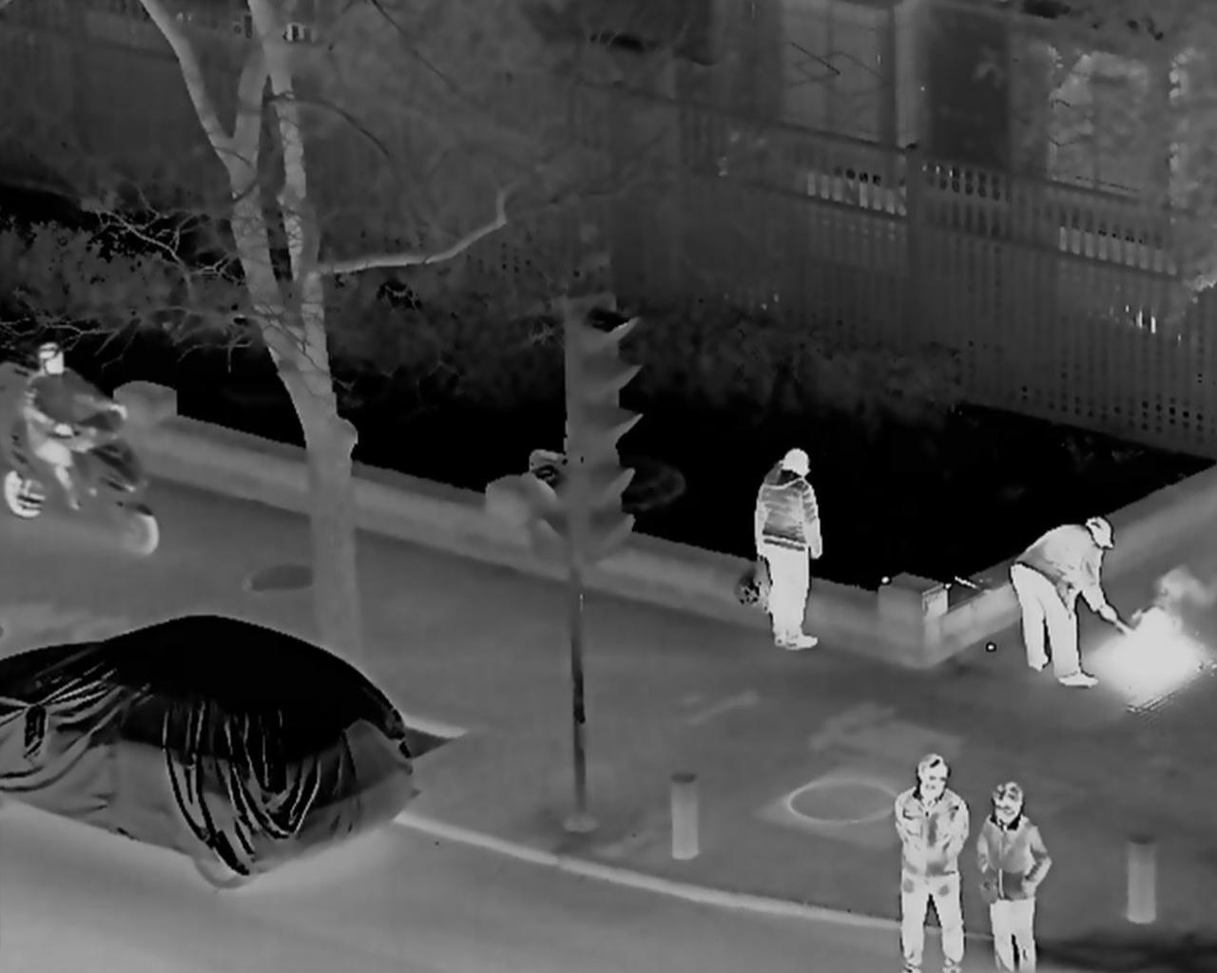person: (1010, 507, 1125, 687), (748, 446, 833, 653), (26, 344, 132, 508), (890, 751, 962, 968), (974, 782, 1053, 973)
